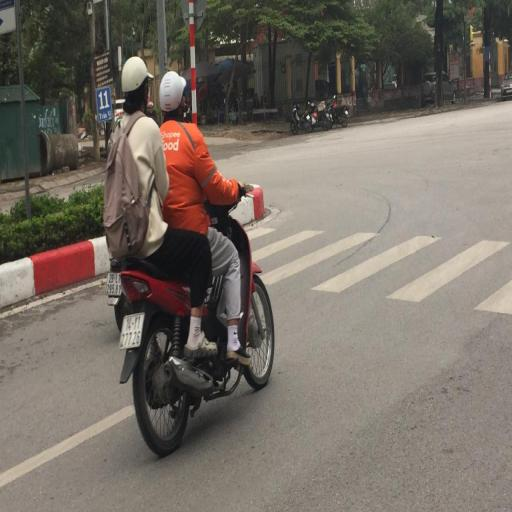bike: (102, 49, 276, 454)
numberplate: (118, 312, 144, 349), (106, 270, 122, 294)
with helmet: (122, 57, 153, 92), (160, 71, 186, 112)
